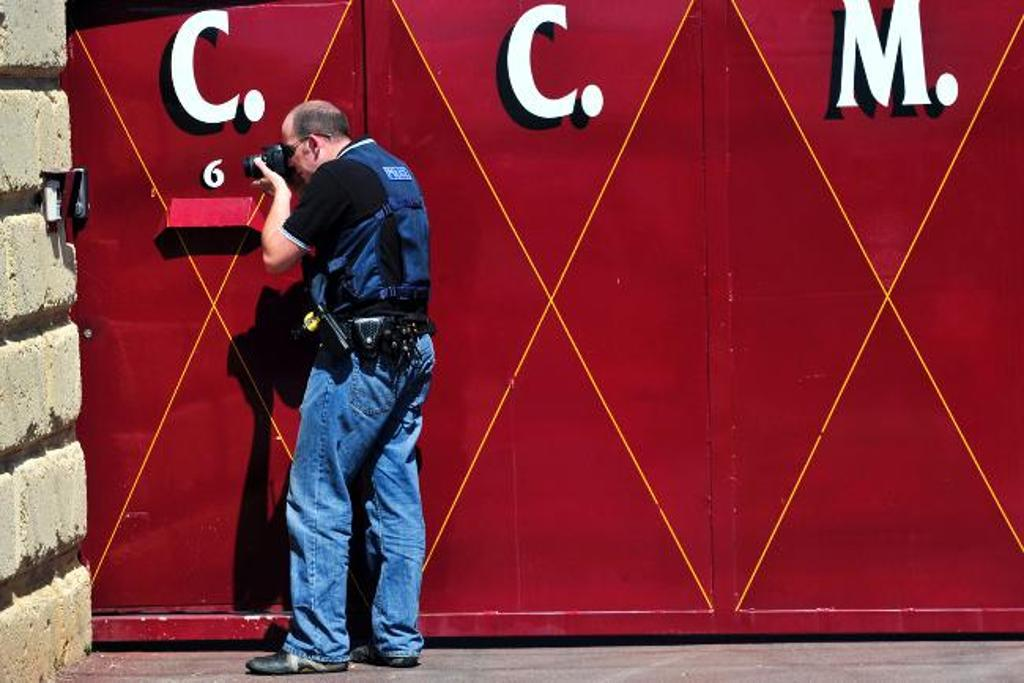face: (279, 111, 331, 185)
